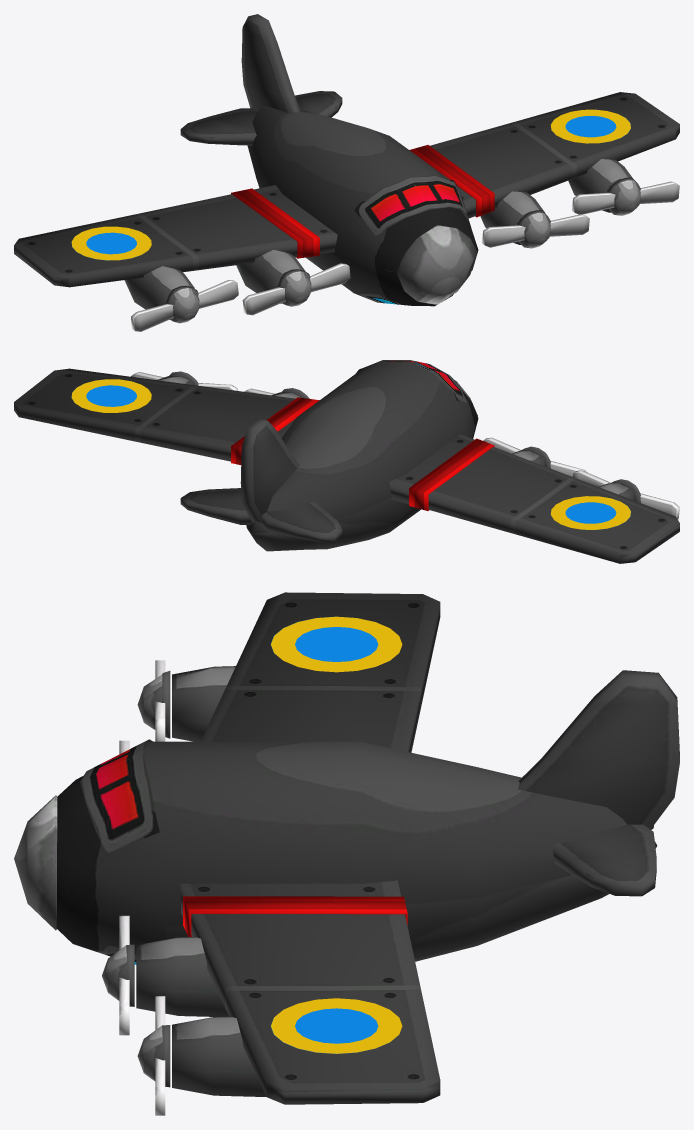
3 renders of one model, top to bottom at view 1: azimuth 30°, elevation 25°; view 2: azimuth 150°, elevation 25°; view 3: azimuth 270°, elevation 25°, orthographic. The views are drawn at different scales.
Parts seen in each view (by area): view 1: Fuselarge, EnginesGrey, Grey_nose, Rondels_Yellow, RedWindow, Red_Stripe, Prop3, Prop4, Prop2, Prop1; view 2: Fuselarge, Rondels_Yellow, Red_Stripe, EnginesGrey, Prop4, Prop3, RedWindow, Prop1; view 3: Fuselarge, EnginesGrey, Rondels_Yellow, RedWindow, Red_Stripe, Grey_nose, Prop2, Prop1, Prop4.
Boxes of the visible parts, x1,y1,x2,y2 form: Fuselarge: (14,14,679,306); EnginesGrey: (124,159,632,319); Grey_nose: (396,225,477,304); Rondels_Yellow: (71,109,630,260); RedWindow: (354,174,466,236); Red_Stripe: (231,145,494,258); Prop3: (242,263,350,315); Prop4: (131,280,238,331); Prop2: (482,210,589,248); Prop1: (572,177,679,215); Fuselarge: (14,361,679,563); Rondels_Yellow: (71,379,630,529); Red_Stripe: (231,397,494,510); EnginesGrey: (157,376,636,501); Prop4: (572,470,679,519); Prop3: (483,437,587,476); RedWindow: (356,360,466,402); Prop1: (131,371,237,390); Fuselarge: (57,592,679,1104); EnginesGrey: (136,666,266,1096); Rondels_Yellow: (271,616,402,1053); RedWindow: (80,739,159,853); Red_Stripe: (183,896,407,936); Grey_nose: (14,795,57,930); Prop2: (102,915,134,1035); Prop1: (137,996,170,1115); Prop4: (137,660,170,741).
Size of the model in its own units: 59.51 by 16.13 by 33.62.
Materials: 1 (1 with a texture image).
